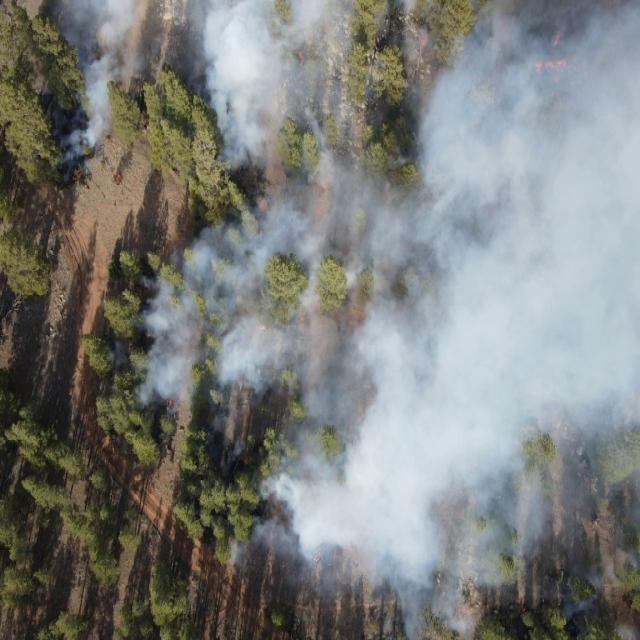fire: (112, 168, 124, 188)
smoke: (142, 206, 640, 555), (56, 0, 640, 204), (307, 554, 515, 640)
